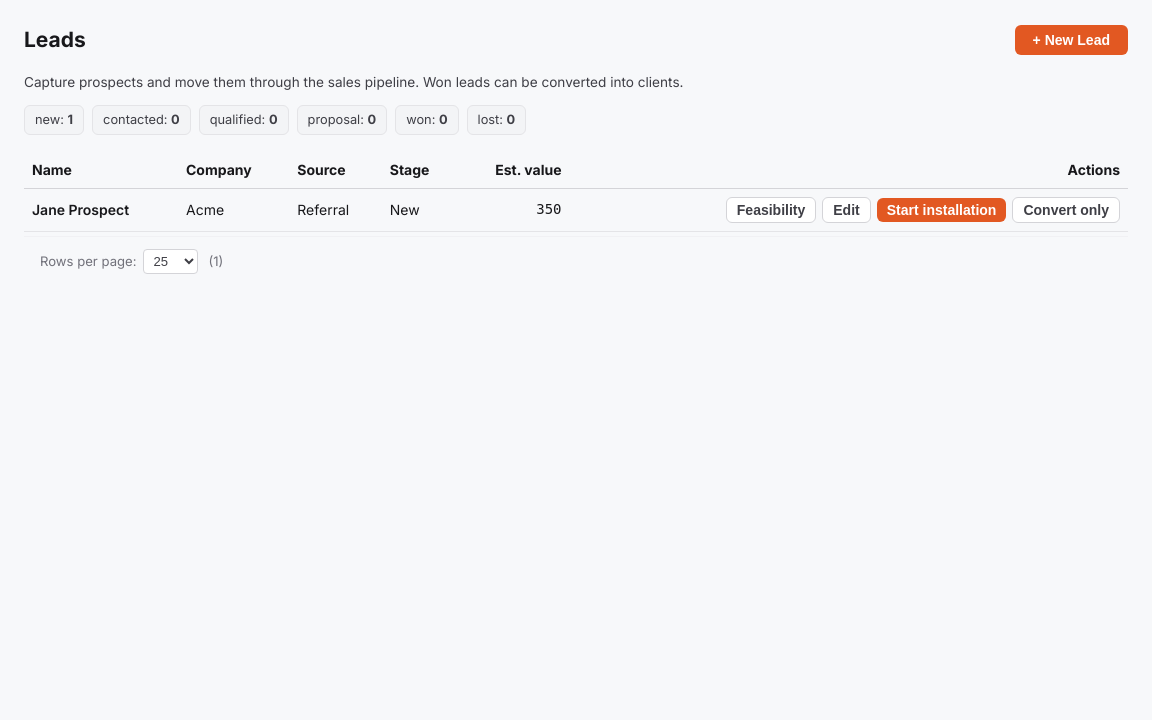
Test: LeadList — feasibility and desired plan › opens the feasibility modal and renders the desk-check sections
Check: the text "Jane Prospect" is shown, box 24,188 -> 178,231
Click the button "Feasibility" at coordinates (771, 210), box 726,197 -> 816,223
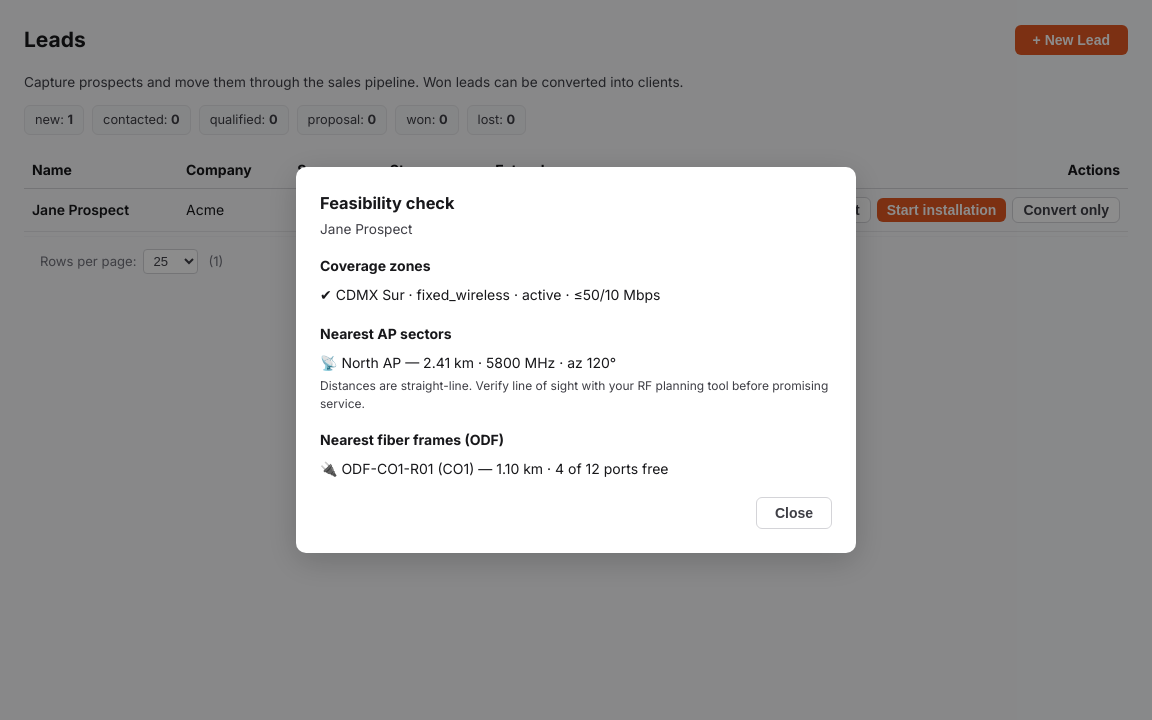
Check: the text "✔ CDMX Sur · fixed_wireless · active · ≤50/10 Mbps" is shown, box 320,286 -> 660,304
Check: the text "📡 North AP — 2.41 km · 5800 MHz · az 120°" is shown, box 320,354 -> 616,372
Check: the text "🔌 ODF-CO1-R01 (CO1) — 1.10 km · 4 of 12 ports free" is shown, box 320,460 -> 668,478
